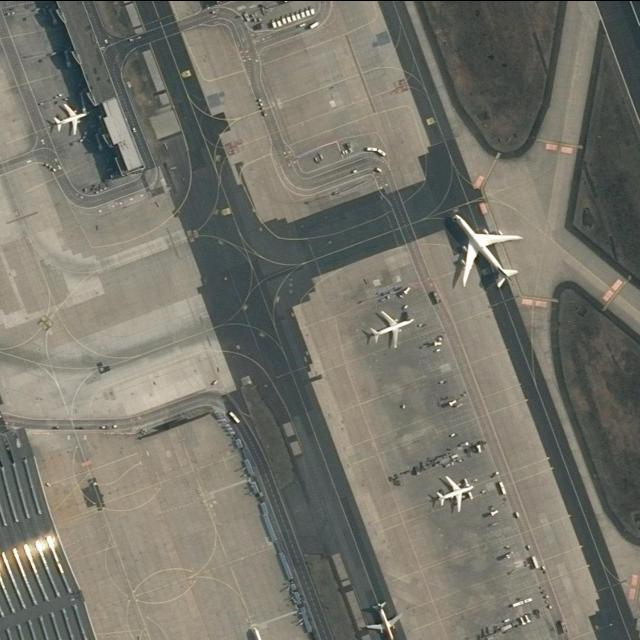Aircraft: (445, 211, 521, 297), (367, 309, 416, 354), (363, 596, 404, 640), (432, 475, 474, 517), (49, 99, 91, 137)
